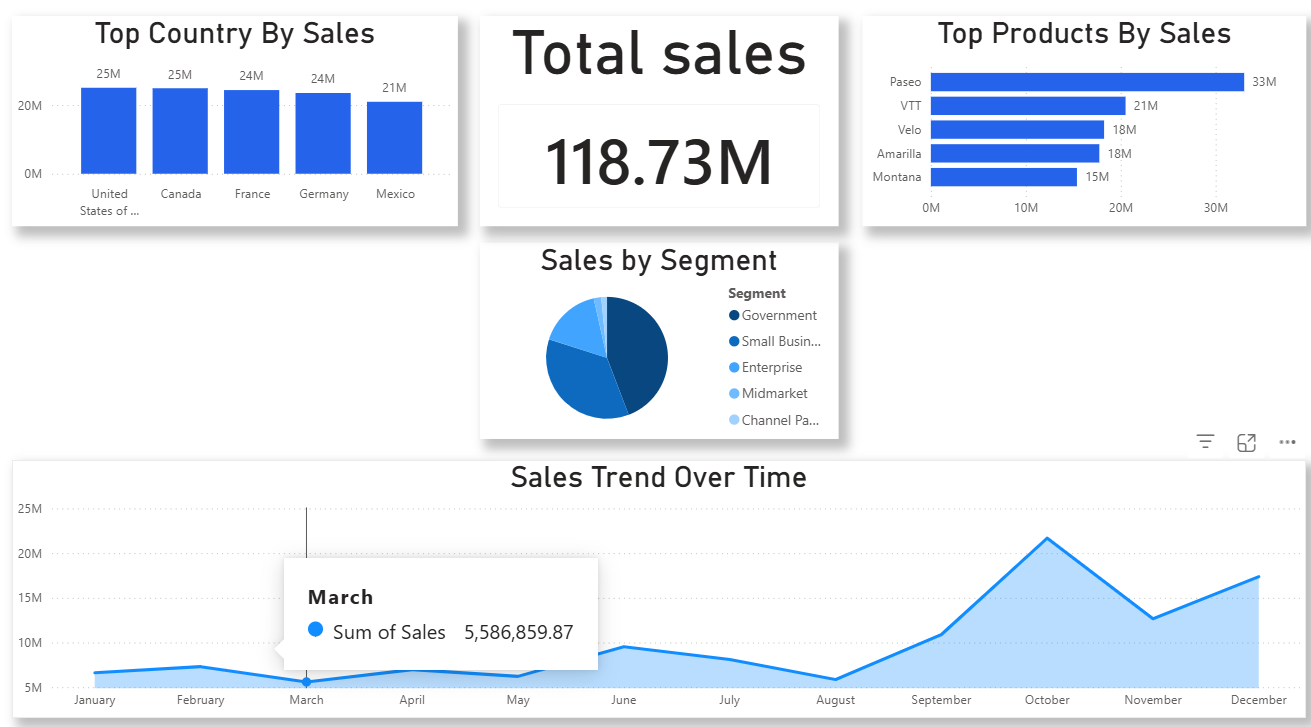

The page's visual inventory and layout, read from the dashboard file:
{"tool":"powerbi","page":{"name":"Advanced Analysis ","canvas":[1280,720],"ordinal":1},"visuals":[{"type":"barChart","title":"Top Products By Sales ","fields":{"Category":["financials.Product"],"Y":["Sum(financials.Sales)"]},"box":[836.9,23.3,430.8,203.8],"z":0},{"type":"columnChart","title":"Top  Country By Sales","fields":{"Category":["financials.Country"],"Y":["Sum(financials.Sales)"]},"box":[11.6,23.2,432.3,203.7],"z":1000},{"type":"pieChart","title":" Sales by Segment","fields":{"Category":["financials.Segment"],"Y":["Sum(financials.Sales)"]},"box":[465.5,243.5,347.9,190.5],"z":2000},{"type":"cardVisual","title":"Total sales","fields":{"Data":["Sum(financials.Sales)"]},"box":[465.5,23.2,347.9,203.7],"z":3000},{"type":"lineChart","title":" Sales Trend Over Time ","fields":{"Category":["financials.Month Name"],"Y":["Sum(financials.Sales)"]},"box":[11.6,453.9,1255.6,250.1],"z":4000}]}

Visuals, with their boxes in screenshot pixels (x1, y1, x2, y2), scaled from the page's 1280x720 canvas onto the 1311x727 screenshot:
"Top Products By Sales " barChart: 857/24/1298/229
"Top  Country By Sales" columnChart: 12/23/455/229
" Sales by Segment" pieChart: 477/246/833/438
"Total sales" cardVisual: 477/23/833/229
" Sales Trend Over Time " lineChart: 12/458/1298/711
